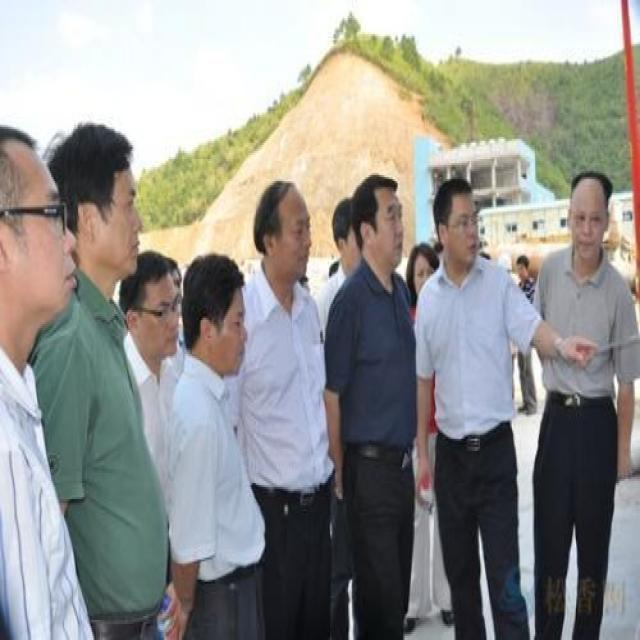no hat: (49, 114, 138, 318), (2, 116, 64, 336), (180, 250, 250, 378), (120, 246, 187, 364), (252, 175, 314, 290), (562, 163, 617, 266), (353, 171, 402, 282), (432, 171, 482, 272), (334, 191, 366, 274), (410, 236, 438, 302), (513, 250, 531, 284)
